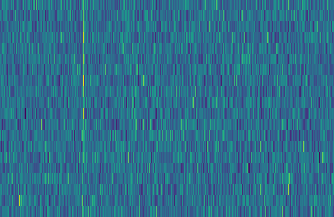signal: (76, 0, 86, 217)
